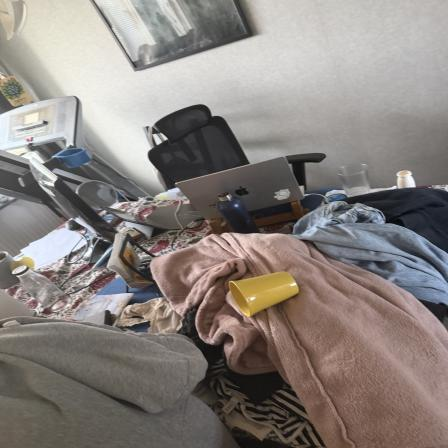blue_bottle: (212, 192, 267, 235)
phone: (83, 310, 111, 336)
yellow_cup: (228, 271, 301, 315)
